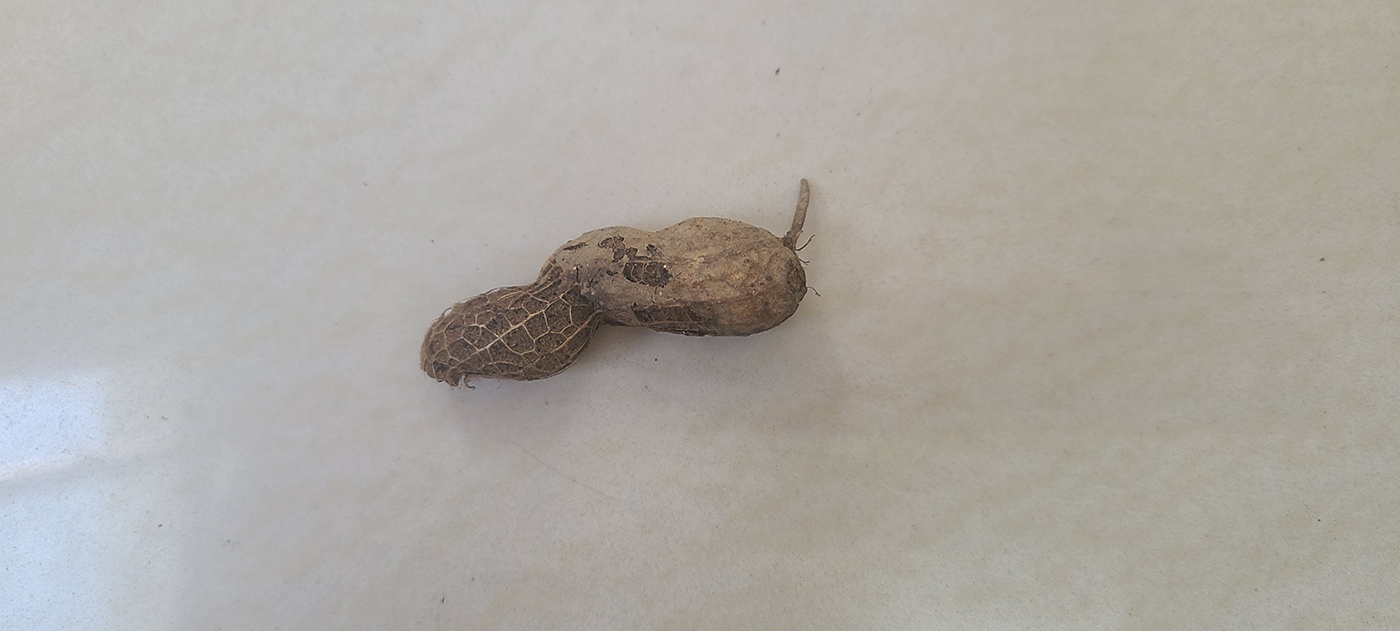l: (414, 214, 808, 389)
